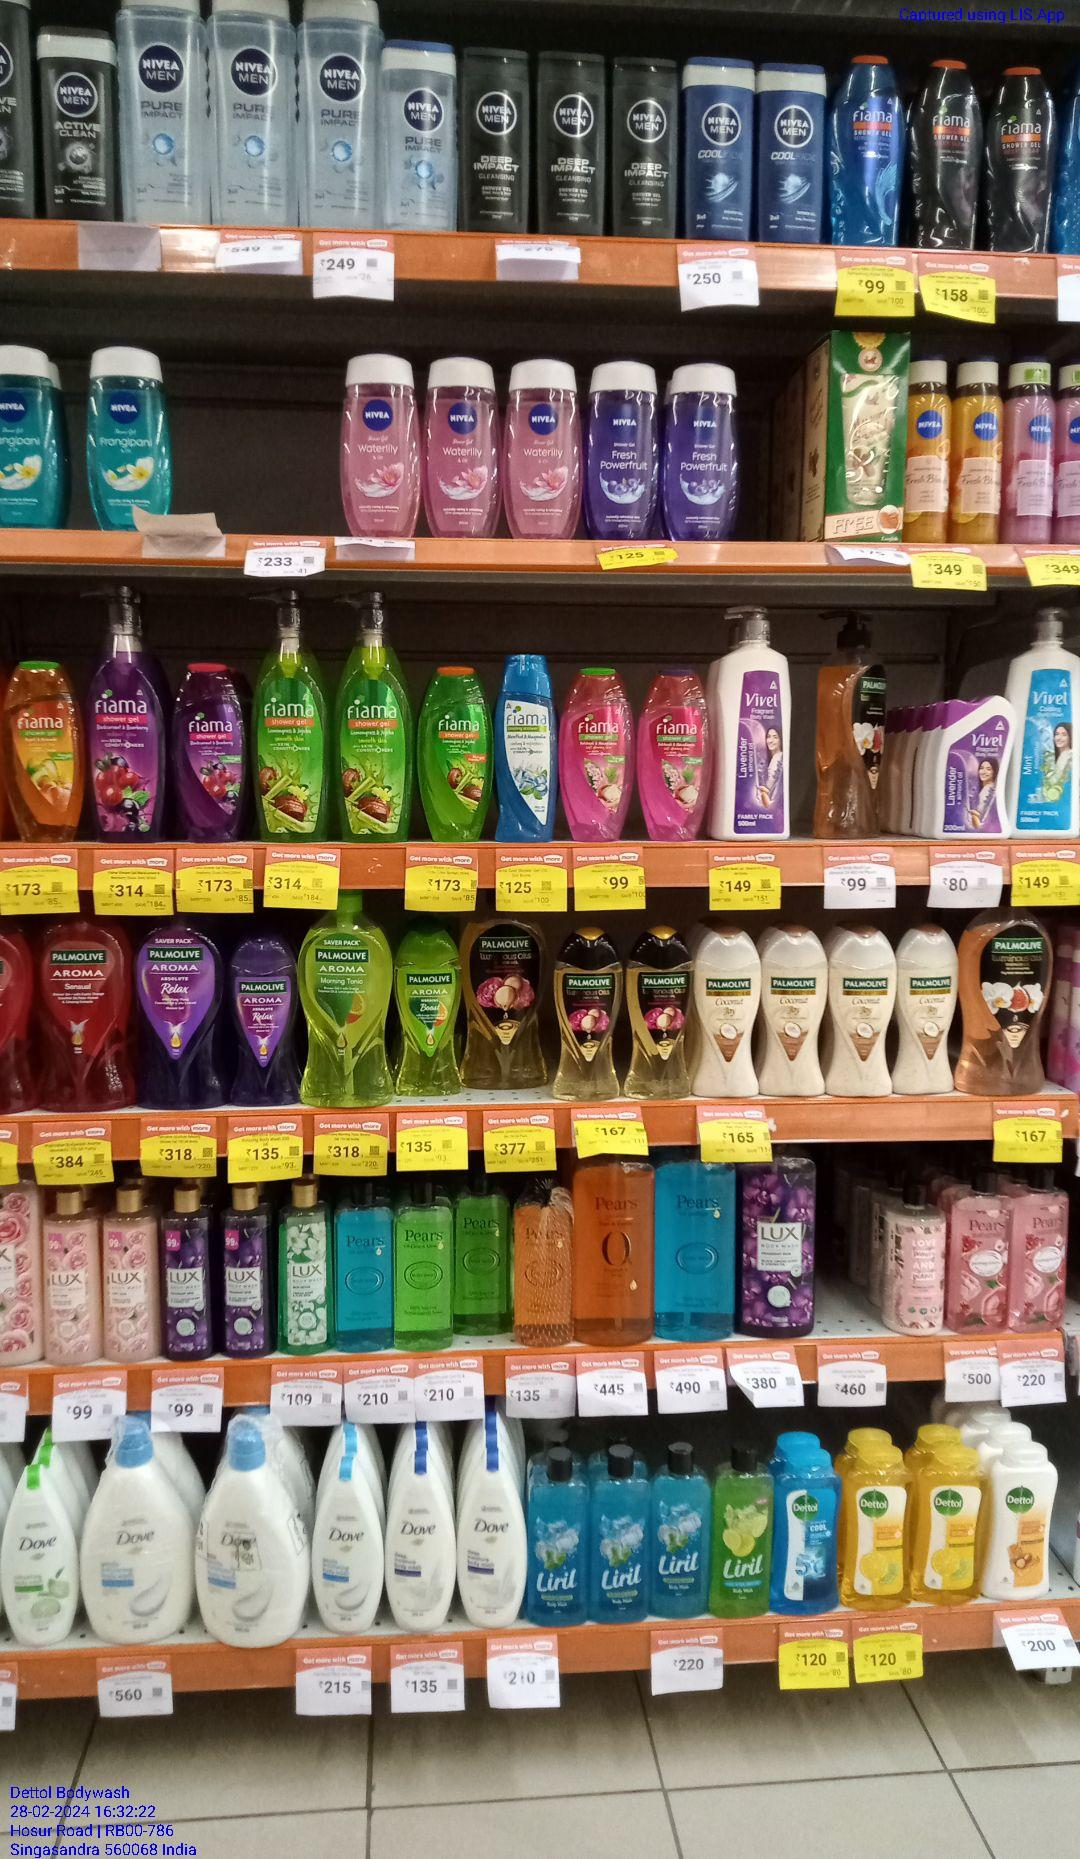Dettol_Bodywash_Cool: (775, 1448, 842, 1619)
Dettol_Bodywash_Refresh: (919, 1449, 984, 1613), (849, 1444, 908, 1616)
Dettol_Nourish_Body_Wash_250ML: (993, 1444, 1054, 1606)
Dove_Deep_Moisture_Body_Wash_250ML: (383, 1450, 454, 1634), (459, 1453, 521, 1630)
Dove_Gentle_Exfoliating_Body_Wash_250ML: (315, 1453, 379, 1634)
Dove_Refreshing_Body_Wash_250ML: (8, 1464, 77, 1646)
Fiama_Shower_Gel_Lemongrass_and_Jojoba_250ML: (417, 665, 490, 842)
Fiama_Shower_Gel_Patchouli_and_Macadamia_250ML: (638, 665, 712, 840), (563, 662, 630, 840)
Fiama_Shower_Gel_Peach_and_Avocado_250ML: (9, 658, 81, 846)
Liril_Cooling_Mint_Body_Wash_250ML: (528, 1453, 585, 1630), (652, 1445, 708, 1621), (591, 1453, 648, 1622)
Liril_Lime_and_Tea_Tree_Oil_Body_Wash_250ML: (712, 1444, 769, 1622)
Lux_Black_Orchid_Scent_and_Juniper_Oil_Body_Wash_245ML: (161, 1183, 215, 1364), (220, 1179, 271, 1361)
Lux_Body_Wash_Skin_Detox_Freesia_Scent_and_Alove_Vera_245ML: (279, 1169, 330, 1355)
Nivea_Shower_Gel_Frangipani_and_Oil_250ML: (85, 343, 170, 530), (0, 343, 67, 528)
Nivea_Shower_Gel_Fresh_Powerfruit_250ML: (662, 360, 739, 543), (585, 360, 653, 544)
Nivea_Shower_Gel_Waterlily_and_Oil_250ML: (345, 348, 419, 540), (503, 352, 577, 540), (426, 355, 499, 539)
Palmolive_Aroma_Morning_Tonic_Shower_Gel_250ML: (552, 926, 622, 1103), (629, 928, 697, 1103), (395, 927, 463, 1100)
Palmolive_Aroma_Relax_250ML: (230, 928, 301, 1109)
Palmolive_Coconut_Joy_Exfoliating_Body_Wash_250ML: (762, 924, 828, 1098), (896, 917, 958, 1097), (831, 923, 892, 1100), (701, 924, 760, 1100)
Pears_Pure_Glycerin_and_Mint_Extracts_Body_Wash_250ML: (336, 1180, 396, 1355)
